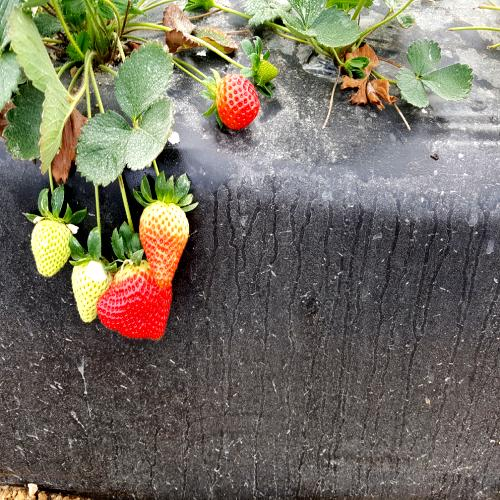partially-ripe: (138, 196, 189, 289)
ripe: (92, 256, 177, 346), (212, 67, 262, 135)
unripe: (26, 214, 78, 288)
